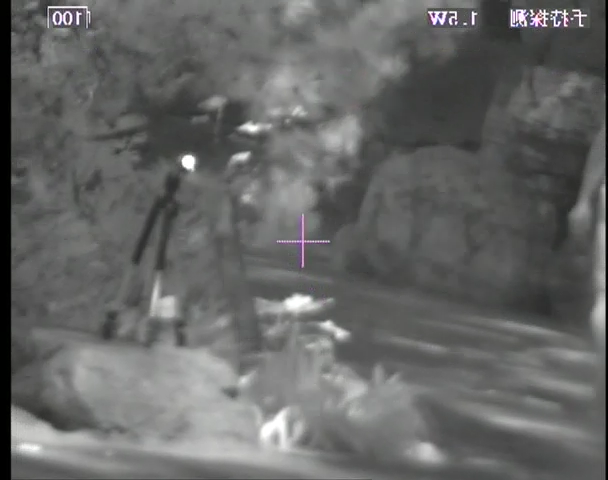my: (180, 154, 195, 172)
